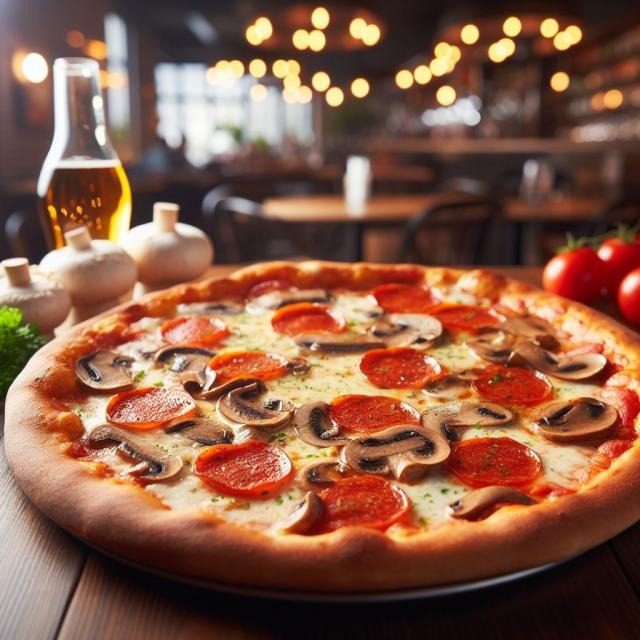Mushrooms: (302, 432, 442, 487), (477, 316, 603, 374), (93, 429, 179, 484), (192, 386, 290, 434), (417, 397, 510, 434), (537, 400, 619, 435), (72, 350, 134, 387), (292, 331, 383, 352), (380, 316, 440, 346), (297, 403, 335, 449), (448, 498, 533, 516), (282, 500, 320, 533), (158, 349, 213, 369), (273, 288, 335, 303)
Pepperoni: (325, 482, 417, 533), (197, 446, 292, 493), (450, 438, 544, 481), (358, 348, 443, 385), (337, 391, 419, 426), (110, 392, 194, 424), (474, 368, 549, 399), (374, 284, 442, 312), (208, 353, 292, 375), (158, 317, 225, 342), (275, 305, 334, 329), (440, 310, 500, 327)
Pizza: (8, 264, 640, 592)
